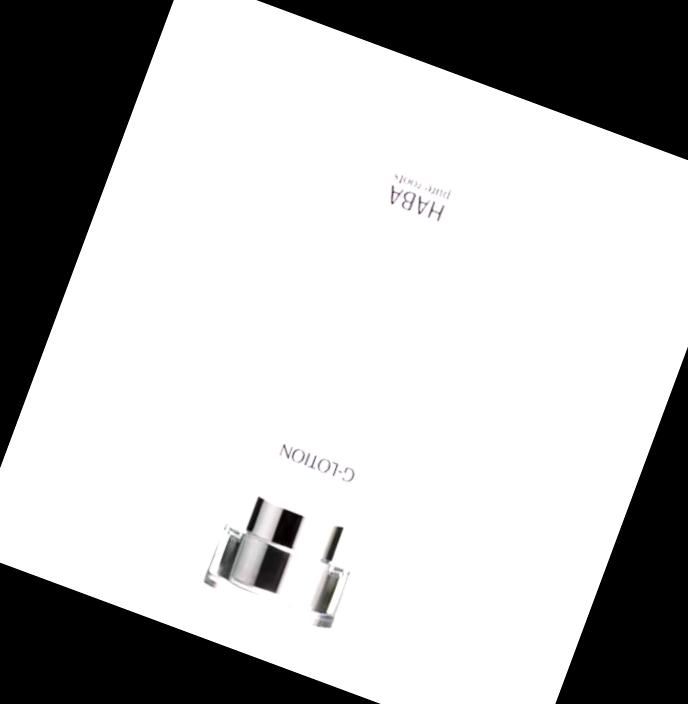cosmetic: (192, 85, 519, 634)
